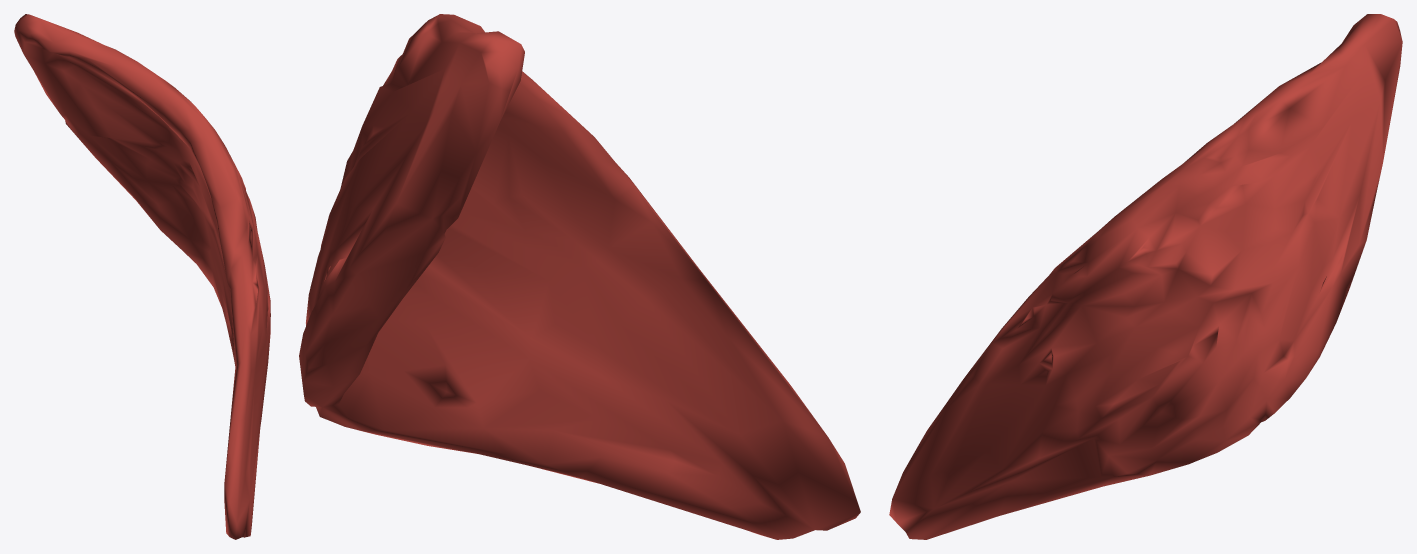
File: musculos-lateral-crico-arytenoid-muscle-l.glb
3 views of the same model, side by side, from view 1: azimuth 30°, elevation 25°; view 2: azimuth 150°, elevation 25°; view 3: azimuth 270°, elevation 25° (orthographic). The views are drawn at different scales.
Parts seen in each view (by area): view 1: Lateral crico-arytenoid muscle.l; view 2: Lateral crico-arytenoid muscle.l; view 3: Lateral crico-arytenoid muscle.l.
Boxes of the visible parts, x1,y1,x2,y2 form: Lateral crico-arytenoid muscle.l: (14,14,270,539); Lateral crico-arytenoid muscle.l: (299,14,860,539); Lateral crico-arytenoid muscle.l: (889,14,1402,539).
Bounding box in the file's own units: 0.00443 × 0.0107 × 0.00995.
